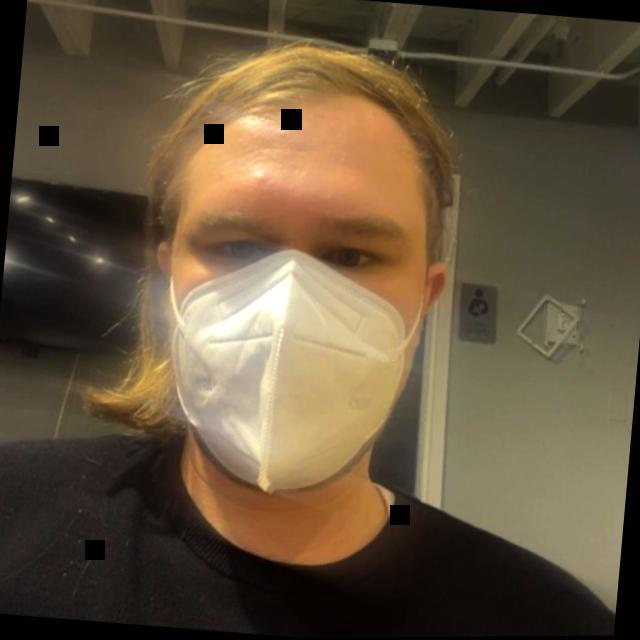Mask: (65, 9, 520, 595)
